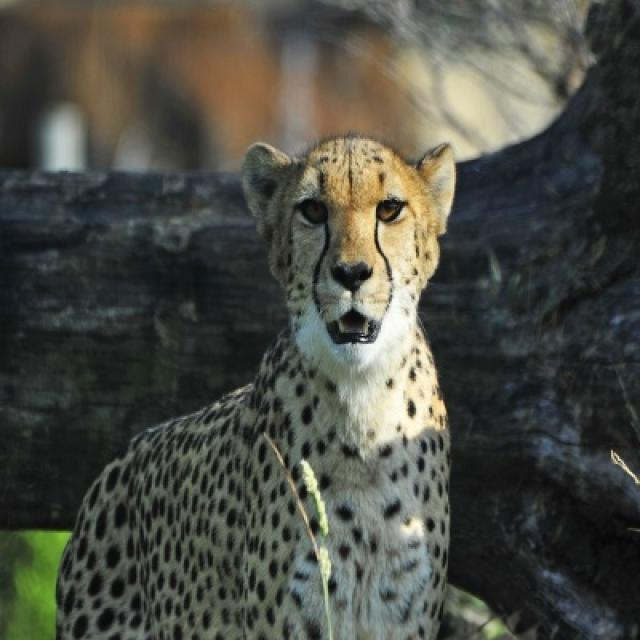Cheetah: (54, 134, 456, 638)
